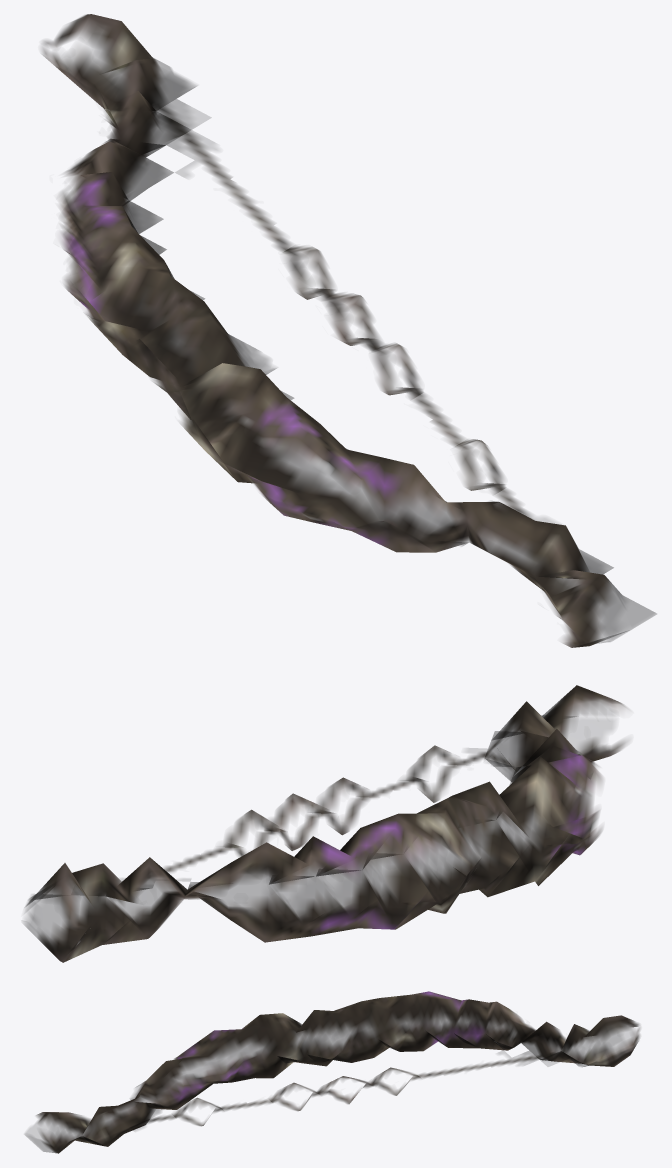
Rendered from drop_bow.glb.
3 renders of one model, top to bottom at view 1: azimuth 30°, elevation 25°; view 2: azimuth 150°, elevation 25°; view 3: azimuth 270°, elevation 25°, orthographic. The views are drawn at different scales.
Visible parts, largest first — view 1: drop_bow; view 2: drop_bow; view 3: drop_bow.
Part boxes in pixels (box(x1,y1,x2,y2)): drop_bow: box(41, 14, 656, 647); drop_bow: box(23, 685, 627, 962); drop_bow: box(25, 991, 640, 1153).
Size of the model in its own units: 0.194 by 0.1517 by 0.622.
1 material, 1 textured.
